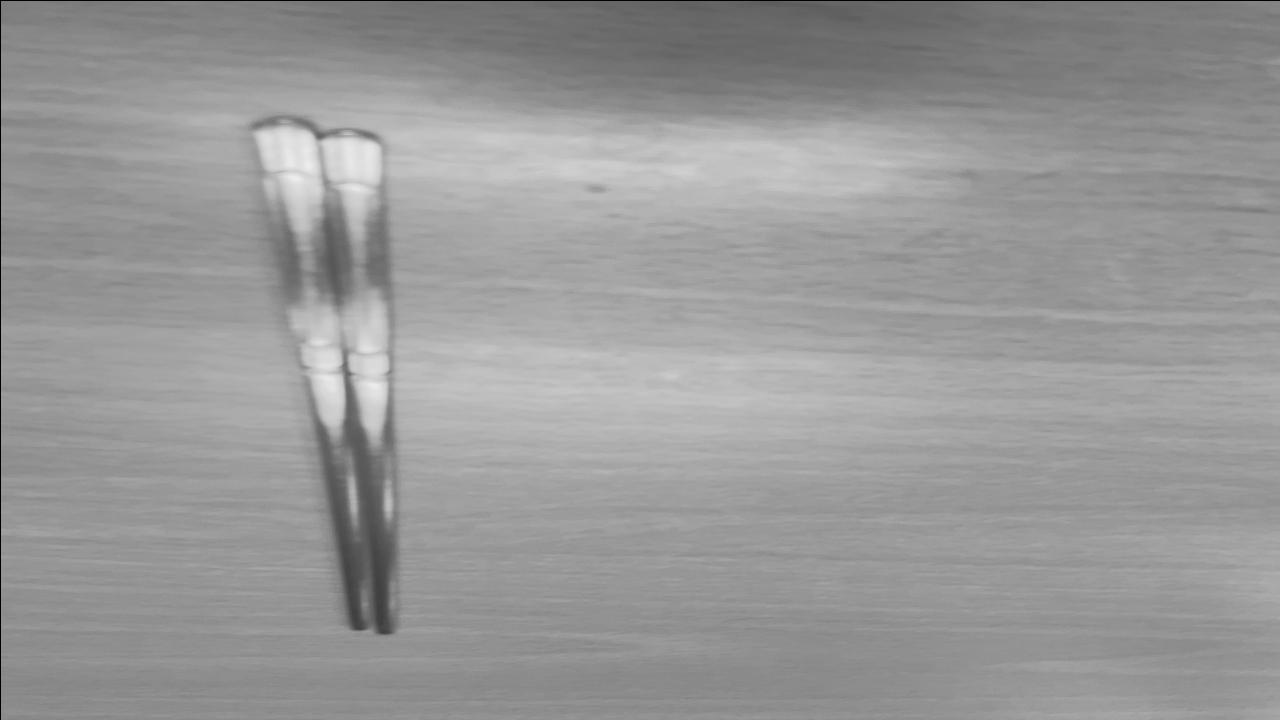chopstick: (252, 119, 398, 633)
